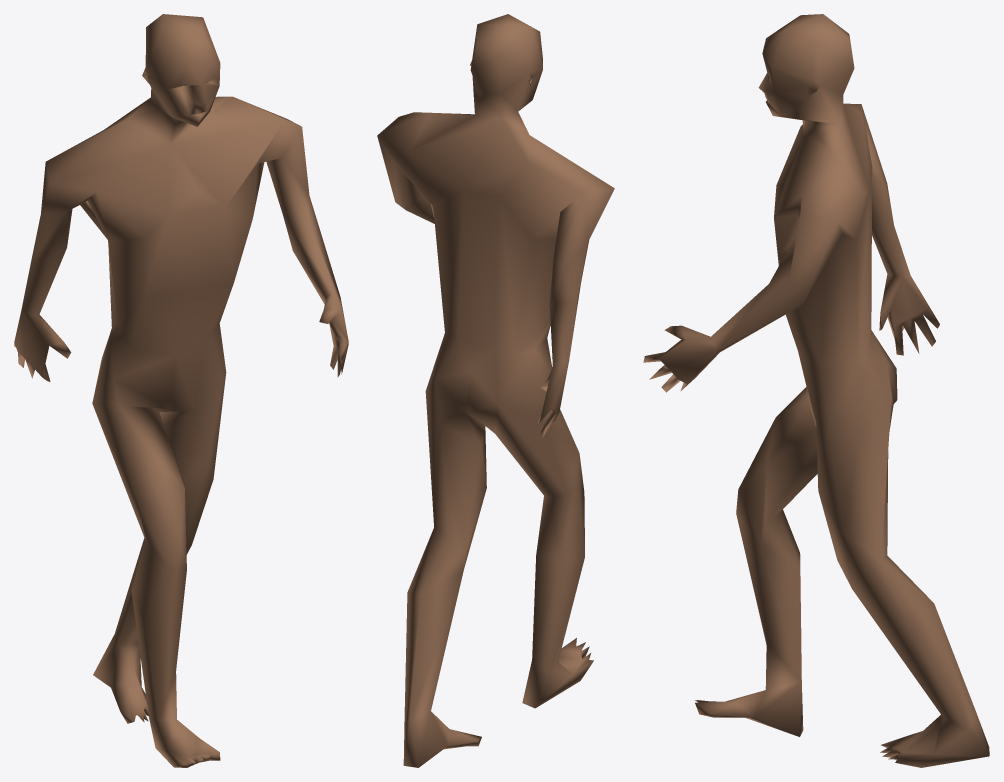
The model's file is obs_000012.obj.
3 renders of one model, left to right at view 1: azimuth 30°, elevation 25°; view 2: azimuth 150°, elevation 25°; view 3: azimuth 270°, elevation 25°, orthographic. The views are drawn at different scales.
Parts seen in each view (by area): view 1: 1-base_1-base.008; view 2: 1-base_1-base.008; view 3: 1-base_1-base.008.
Boxes of the visible parts, x1,y1,x2,y2 form: 1-base_1-base.008: [14, 14, 348, 767]; 1-base_1-base.008: [377, 14, 614, 767]; 1-base_1-base.008: [643, 14, 989, 767].
Bounding box in the file's own units: 0.4418 × 1.27 × 0.5414.
